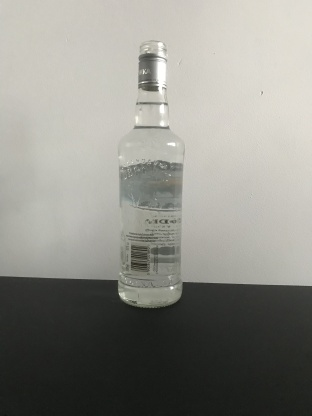nakretka: (135, 39, 169, 93)
